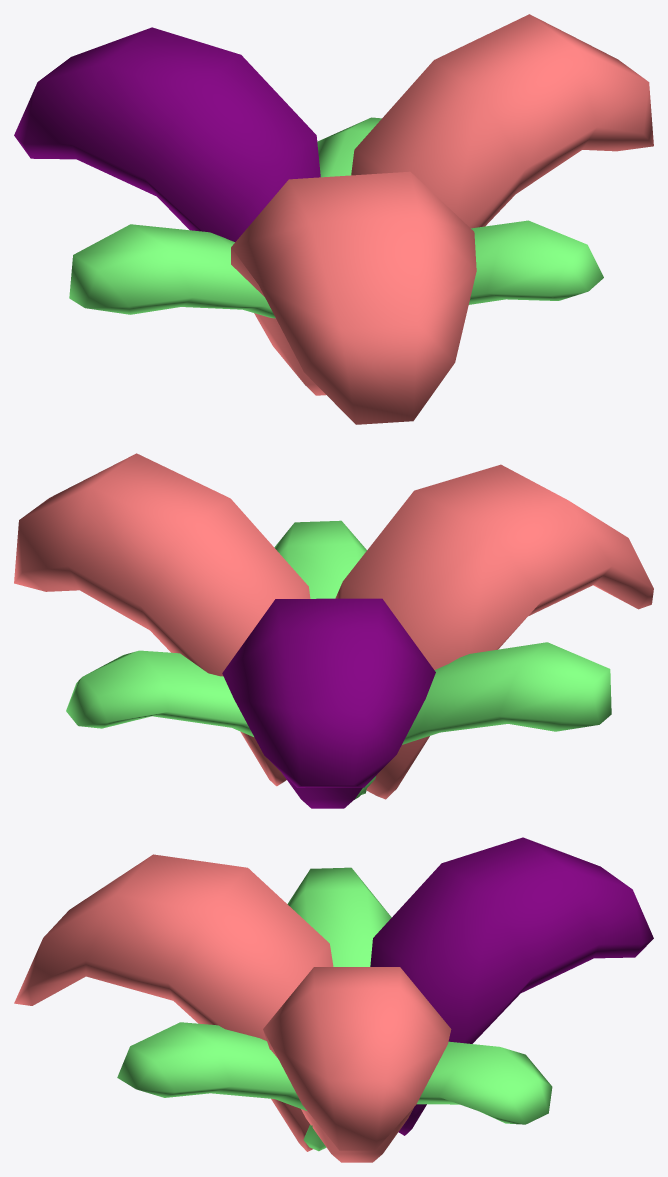
File: Grass02.2.fbx
3 renders of one model, top to bottom at view 1: azimuth 30°, elevation 25°; view 2: azimuth 150°, elevation 25°; view 3: azimuth 270°, elevation 25°, orthographic. The views are drawn at different scales.
Parts seen in each view (by area): view 1: Low_Grass022; view 2: Low_Grass022; view 3: Low_Grass022.
Part boxes in pixels (x1,y1,x2,y2): Low_Grass022: (14, 14, 653, 424); Low_Grass022: (14, 453, 653, 808); Low_Grass022: (14, 837, 653, 1162).
Bounding box in the file's own units: 645 × 305 × 668.
